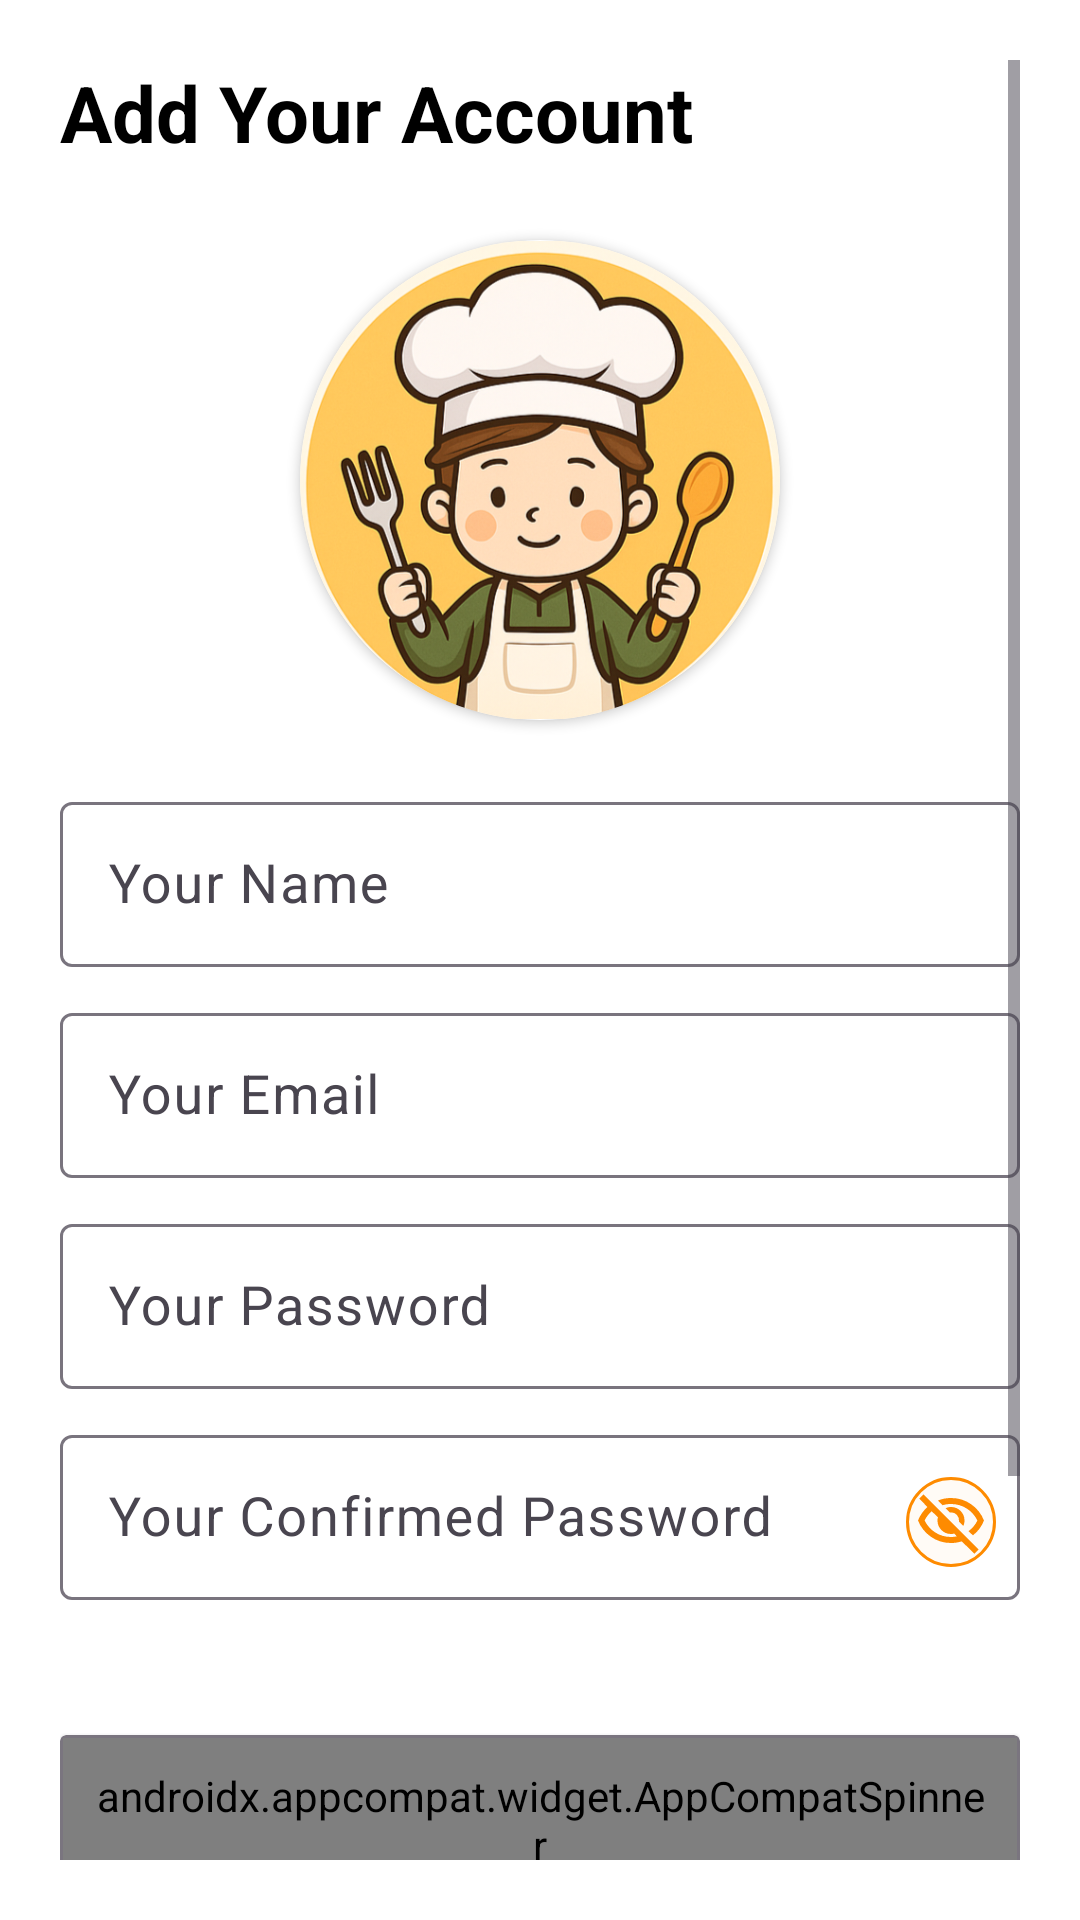

Icons on this 1080w x 1920h Android screen, each with its box as {"x1": x1, "y1": y1, "x2": x2, "y2": y2}:
close eye: {"x1": 906, "y1": 1477, "x2": 996, "y2": 1567}
